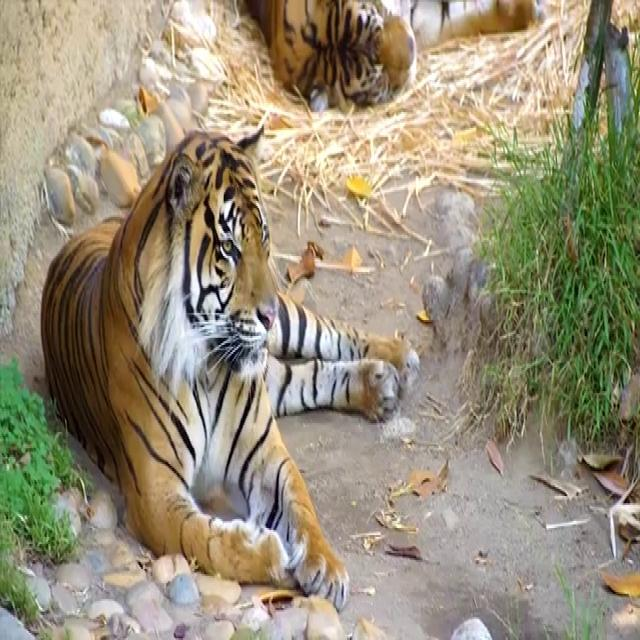tiger: (40, 101, 419, 611)
